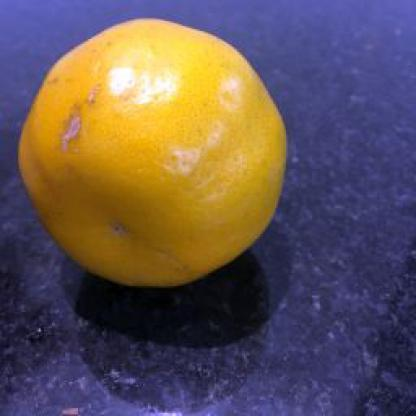orange_rotten: (13, 16, 288, 294)
